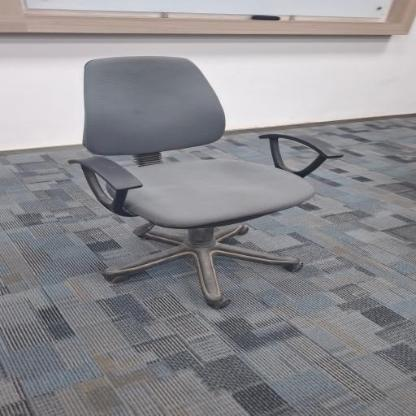chair: (69, 47, 346, 313)
